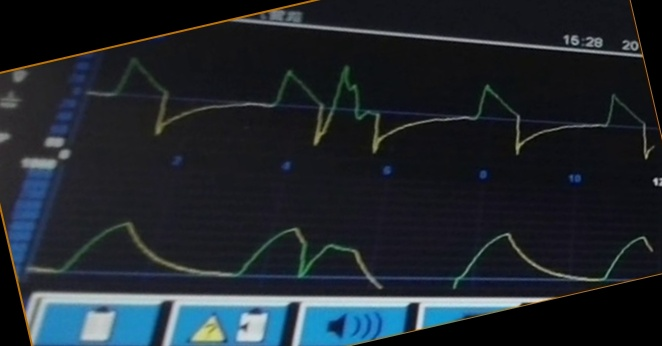Double_Triggering Flow: (107, 58, 644, 160)
Double_Triggering Volume: (50, 205, 650, 290)
